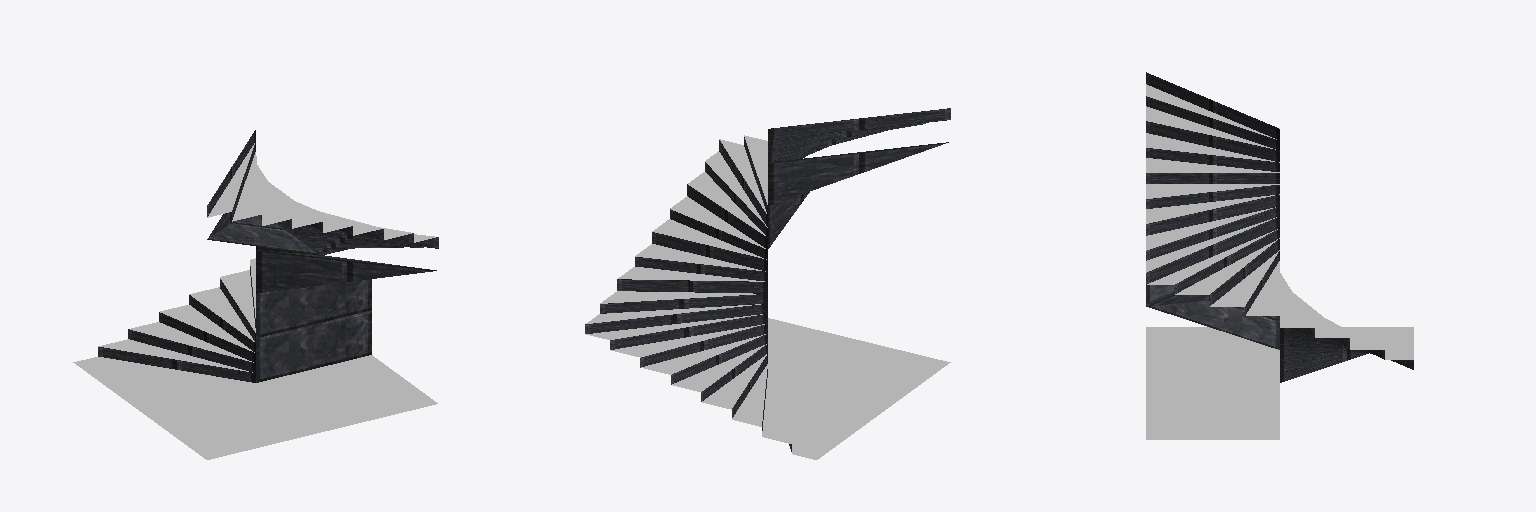
The picture shows the model from 3 angles: view 1: azimuth 30°, elevation 25°; view 2: azimuth 150°, elevation 25°; view 3: azimuth 270°, elevation 25°; orthographic projection.
Parts seen in each view (by area): view 1: model56300-node_model56300; view 2: model56300-node_model56300; view 3: model56300-node_model56300.
Boxes of the visible parts, x1=… form: model56300-node_model56300: x1=73, y1=130, x2=438, y2=459; model56300-node_model56300: x1=585, y1=108, x2=950, y2=459; model56300-node_model56300: x1=1146, y1=72, x2=1413, y2=439.
Size of the model in its own units: 6.1 by 6.4 by 6.1.
Materials: 2 (1 with a texture image).